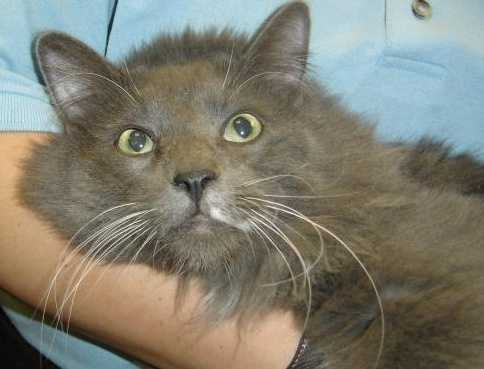Cat: (22, 2, 396, 313)
